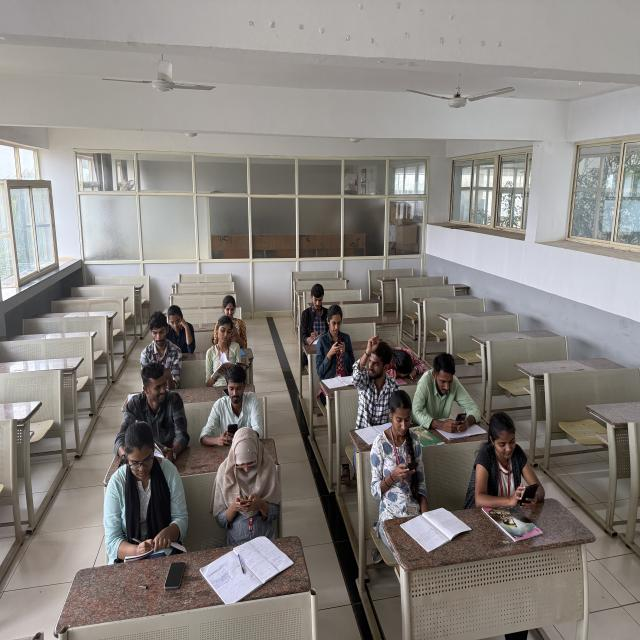Hand Rising: (354, 324, 401, 423)
Reading: (204, 315, 248, 383), (163, 302, 198, 357)
Sleeping: (385, 342, 429, 384)
Using Phone: (207, 421, 286, 540), (369, 389, 431, 519), (472, 406, 544, 517), (411, 347, 484, 440), (198, 360, 268, 444), (136, 309, 181, 389), (314, 304, 356, 376), (208, 295, 248, 349)
Writing: (102, 418, 188, 566), (301, 281, 331, 346)
